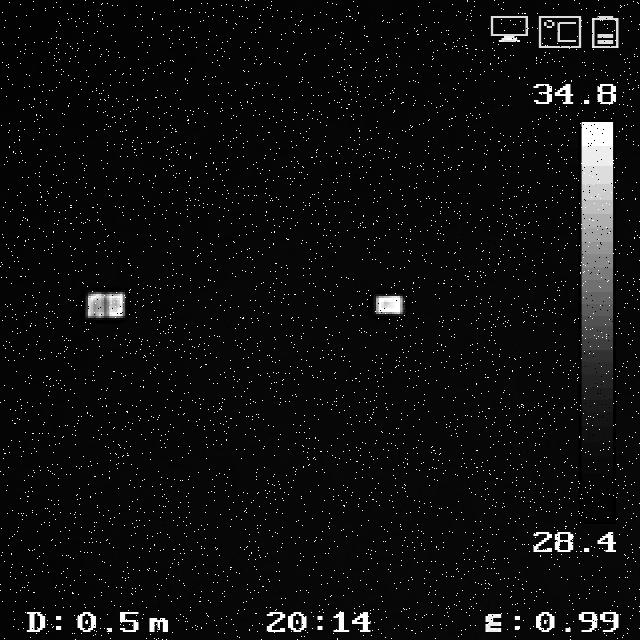Indistinguishable 4-bar target: (376, 294, 405, 316)
threshold 4-bar target: (83, 287, 132, 323)
